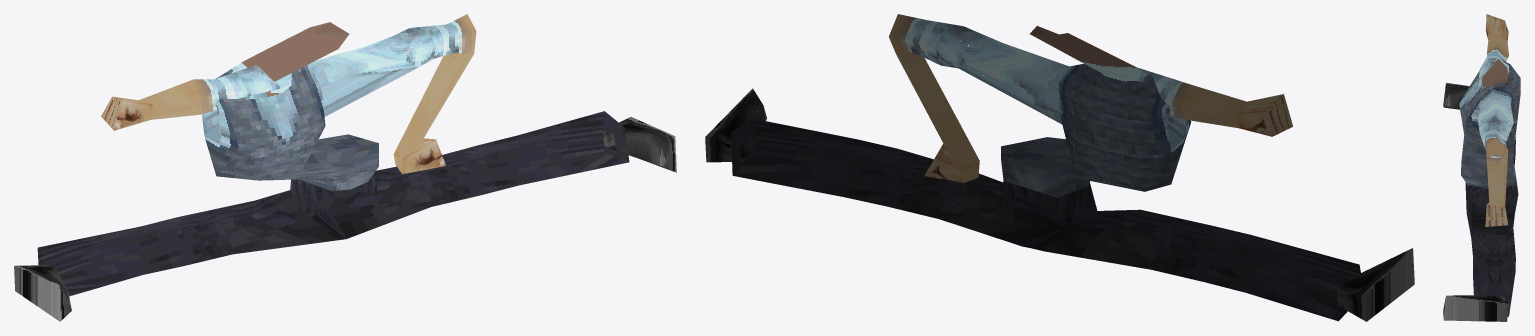
The model's file is CcardimanZ.obj.
3 views of the same model, side by side, from view 1: azimuth 30°, elevation 25°; view 2: azimuth 150°, elevation 25°; view 3: azimuth 270°, elevation 25° (orthographic). The views are drawn at different scales.
Bounding box in the file's own units: 2167 × 681 × 335.
14 materials, 14 textured.
